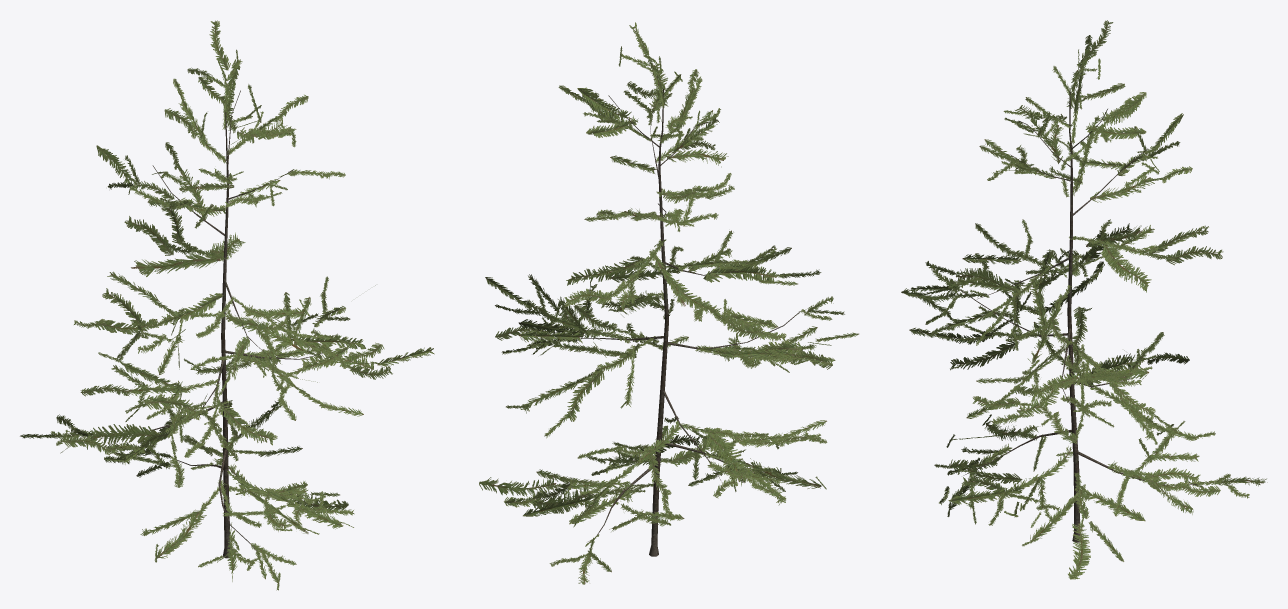
Rendered from fir-sapling-a.glb.
3 renders of one model, left to right at view 1: azimuth 30°, elevation 25°; view 2: azimuth 150°, elevation 25°; view 3: azimuth 270°, elevation 25°, orthographic. The views are drawn at different scales.
Visible parts, largest first — view 1: fir_sapling_a; view 2: fir_sapling_a; view 3: fir_sapling_a.
Part boxes in pixels (left/top/right/bottom): fir_sapling_a: left=20, top=20, right=434, bottom=590; fir_sapling_a: left=479, top=22, right=858, bottom=584; fir_sapling_a: left=901, top=20, right=1267, bottom=579.
Size of the model in its own units: 0.9013 by 1.32 by 0.8592.
Materials: 2 (2 with a texture image).
